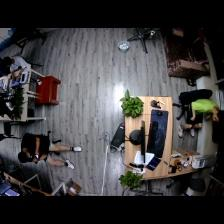normal: (18, 134, 83, 171), (178, 97, 223, 138), (2, 54, 31, 80)
